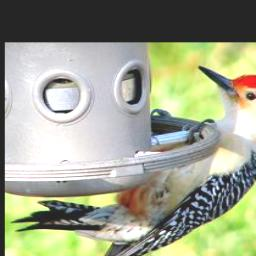Woodpecker: (11, 65, 256, 256)
